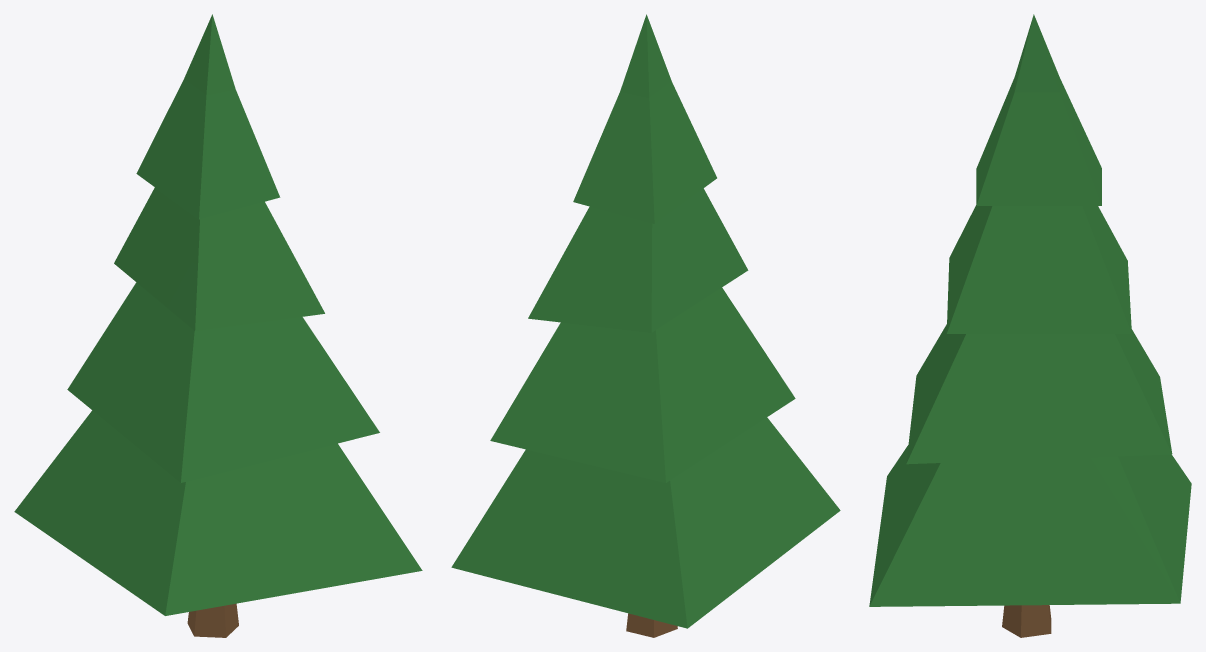
Rendered from tree-conifer.glb.
3 views of the same model, side by side, from view 1: azimuth 30°, elevation 25°; view 2: azimuth 150°, elevation 25°; view 3: azimuth 270°, elevation 25° (orthographic).
Parts seen in each view (by area): view 1: tree-conifer; view 2: tree-conifer; view 3: tree-conifer.
Boxes of the visible parts, x1,y1,x2,y2 form: tree-conifer: (14,14,422,637); tree-conifer: (451,14,840,637); tree-conifer: (869,14,1191,637).
Bounding box in the file's own units: 2.44 × 5.74 × 2.73.
Materials: 1 (1 with a texture image).
